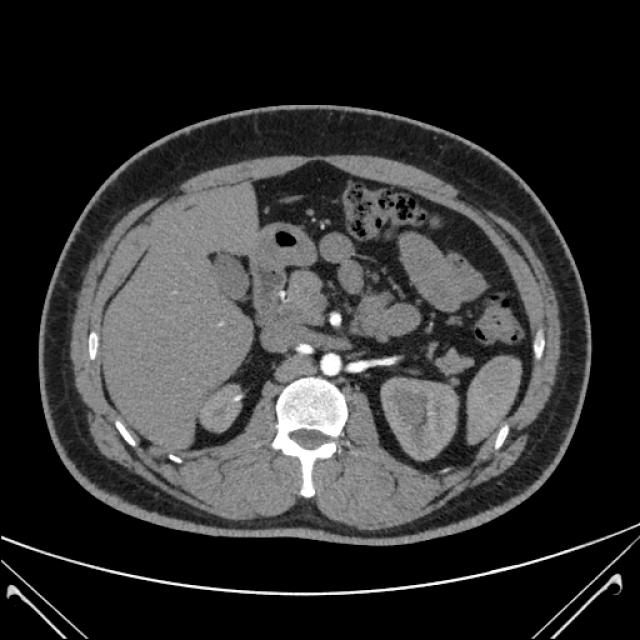Kidney: (44, 93, 603, 537)
